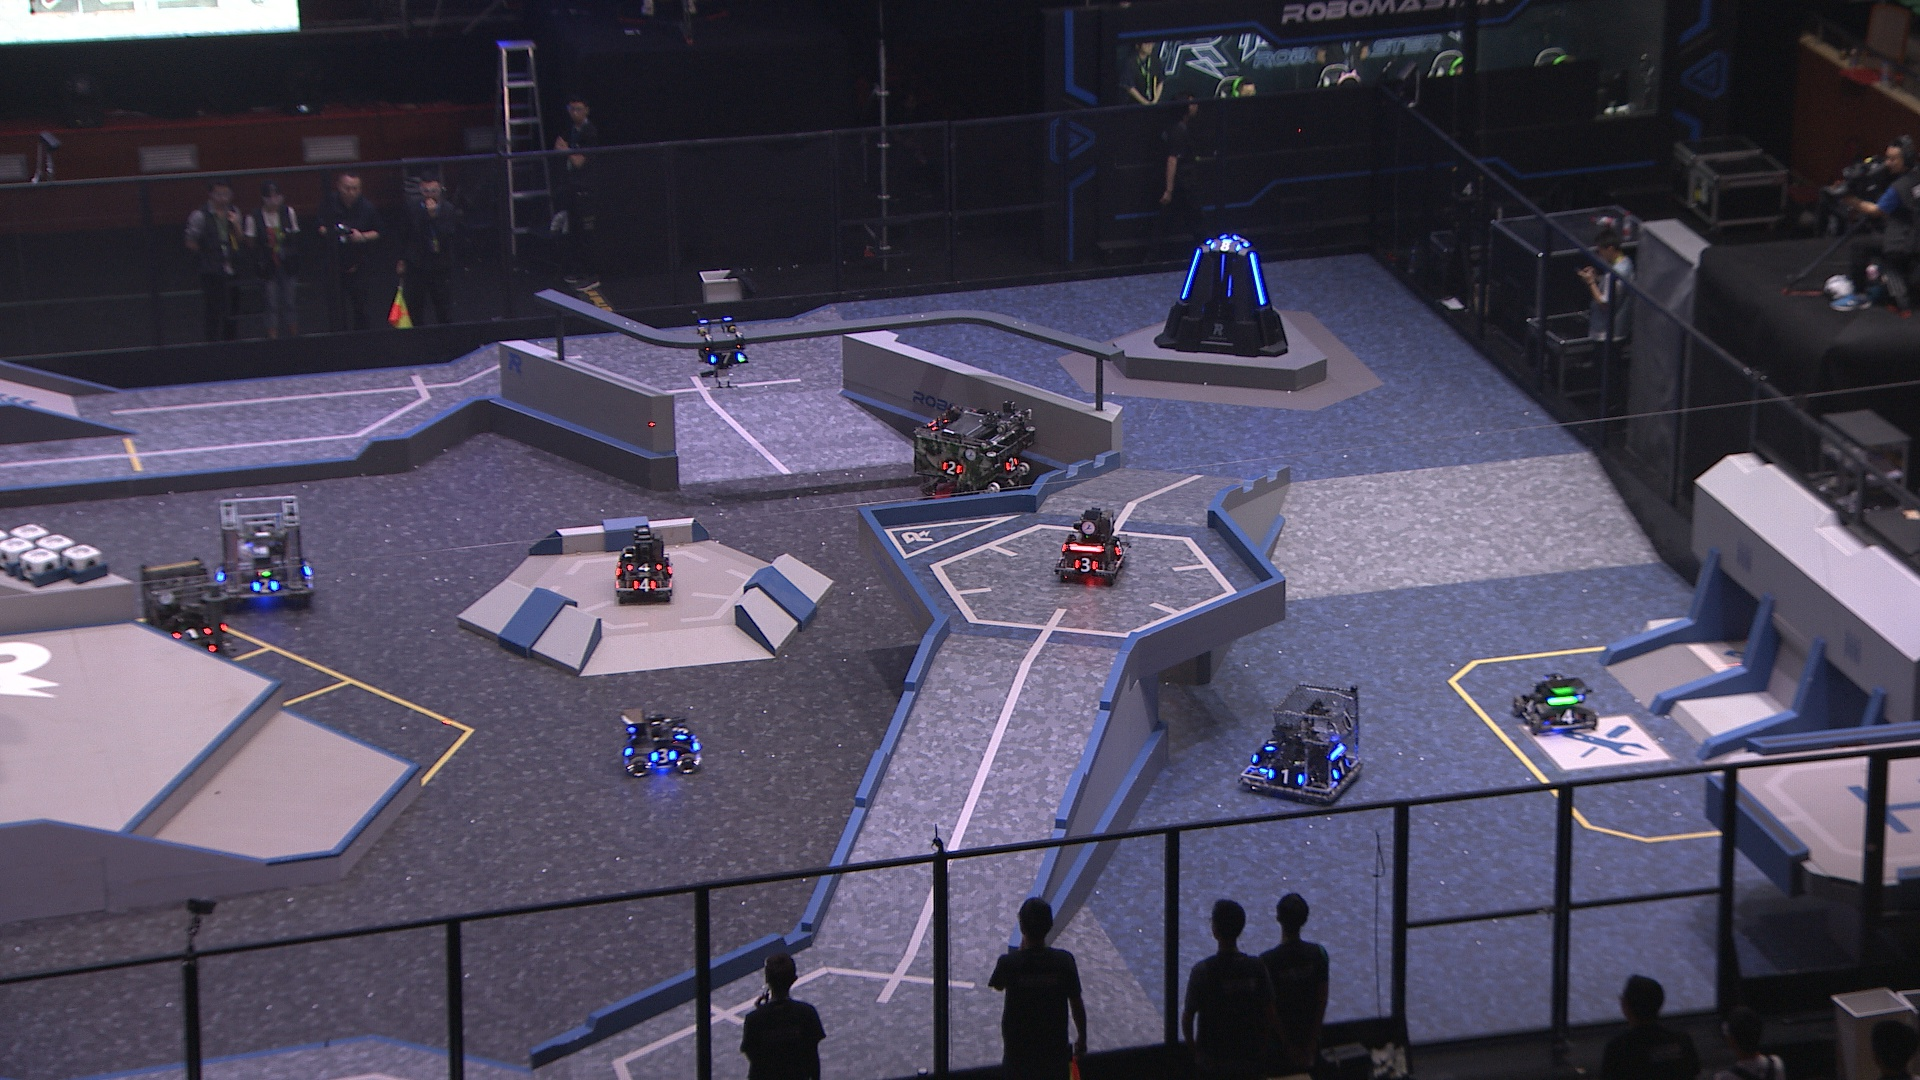armor: (1247, 253, 1269, 309), (1182, 247, 1203, 301), (708, 349, 745, 371), (1267, 767, 1304, 785), (175, 622, 210, 638), (1332, 757, 1353, 781), (252, 574, 277, 593), (650, 746, 678, 764), (626, 560, 662, 574), (1211, 239, 1242, 253), (1072, 556, 1098, 572), (1555, 709, 1581, 725), (632, 578, 657, 593), (942, 458, 961, 477), (1262, 735, 1280, 754), (1523, 695, 1539, 717), (675, 721, 692, 741), (1004, 458, 1019, 475), (1116, 537, 1125, 560)
base: (1156, 225, 1288, 357)
car: (1236, 680, 1361, 807), (913, 406, 1036, 527), (128, 556, 231, 680), (207, 502, 316, 613), (612, 705, 700, 779), (1510, 670, 1602, 735), (611, 518, 679, 604), (1054, 508, 1129, 580)
watcher: (694, 315, 754, 378)
